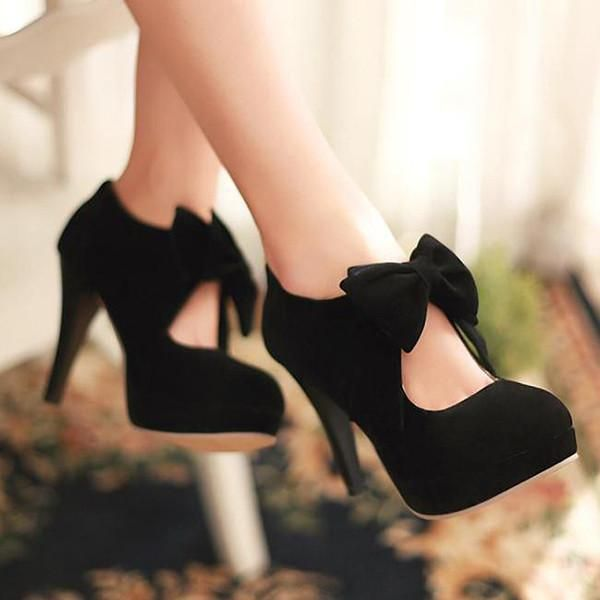gamuza: (58, 178, 573, 517)
